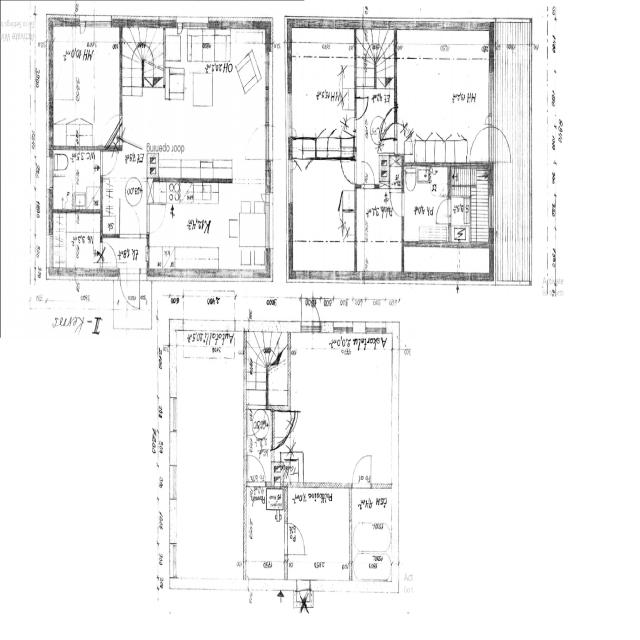door: (119, 195, 142, 240), (244, 120, 268, 161), (468, 122, 492, 162), (350, 449, 373, 489), (118, 268, 140, 308), (491, 123, 512, 162), (286, 520, 307, 555), (147, 199, 167, 235), (388, 187, 406, 219), (248, 453, 266, 485), (100, 146, 118, 177), (434, 194, 452, 224), (101, 238, 118, 269), (339, 156, 356, 183), (360, 159, 376, 187), (354, 95, 369, 120)
window: (168, 379, 179, 457), (263, 49, 273, 128), (247, 578, 285, 598), (263, 188, 274, 250), (487, 62, 498, 123), (168, 495, 180, 546), (178, 15, 210, 30), (82, 14, 114, 29), (488, 185, 497, 232), (364, 269, 391, 284), (286, 159, 294, 207), (286, 90, 294, 134), (332, 269, 352, 282), (47, 153, 54, 190)
zone: (118, 24, 269, 180), (173, 330, 245, 588), (292, 335, 389, 483), (396, 29, 492, 161), (152, 181, 272, 274), (50, 24, 122, 147), (289, 27, 356, 154), (289, 151, 357, 276), (286, 484, 352, 580), (350, 487, 394, 586), (358, 185, 403, 278), (246, 486, 287, 583), (402, 162, 450, 244), (449, 163, 494, 244), (245, 329, 290, 407), (51, 146, 103, 210), (51, 210, 102, 274), (246, 404, 272, 442), (380, 151, 403, 188), (272, 407, 293, 447)
